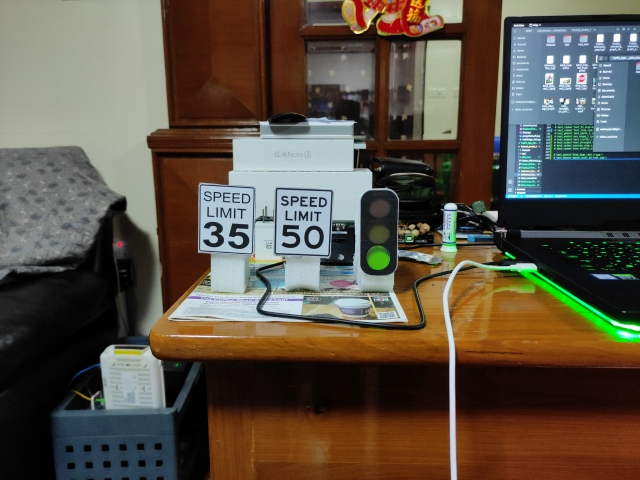Green Traffic Light: (359, 188, 399, 276)
Speed Limit 35: (197, 182, 257, 256)
Speed Limit 50: (273, 187, 334, 257)
